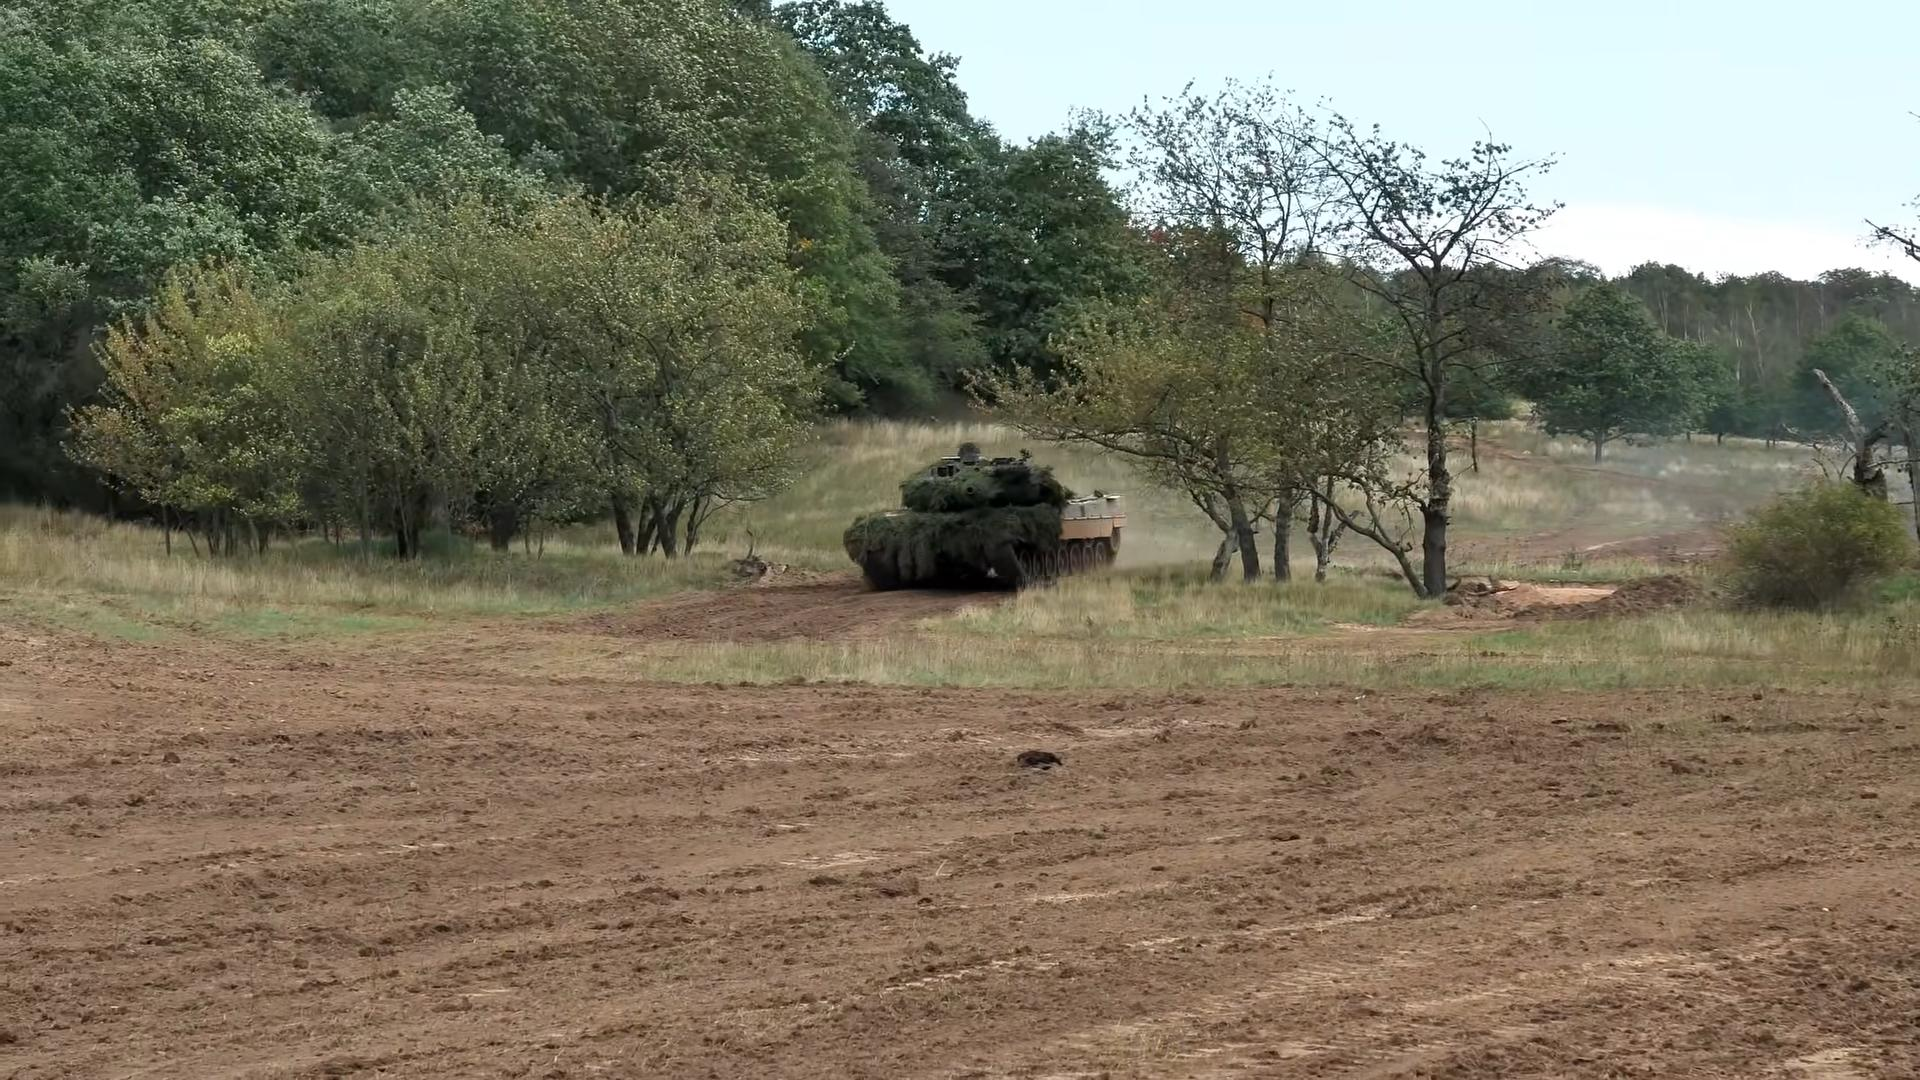tank: (845, 444, 1127, 592)
